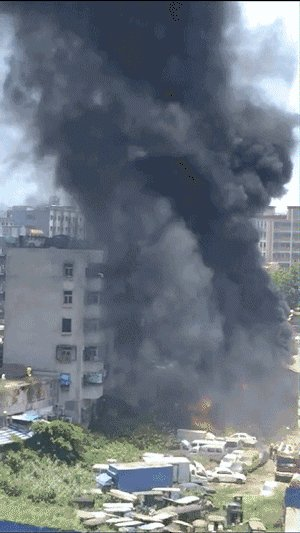smoke: (30, 2, 300, 425)
